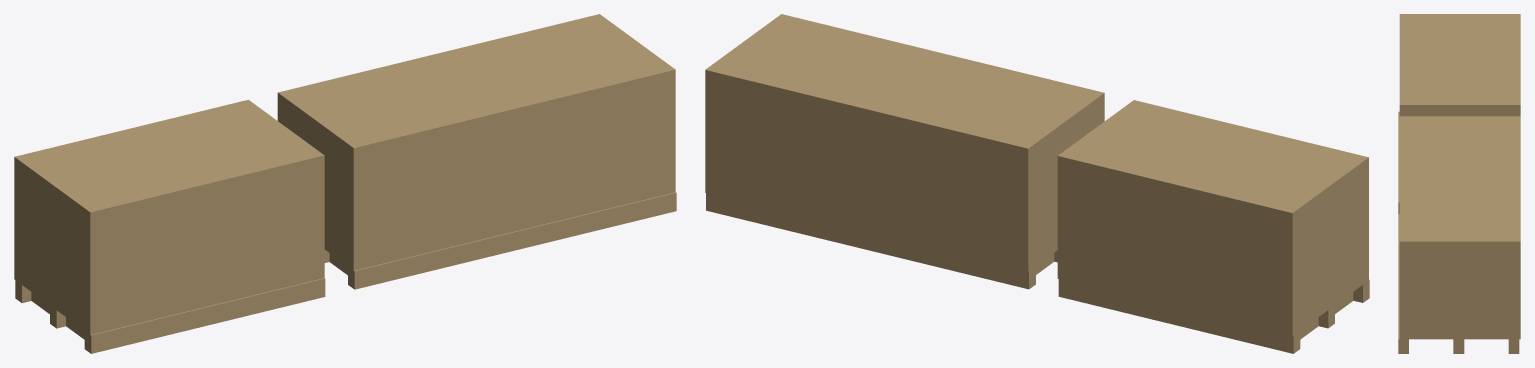
File: stone.obj
The picture shows the model from 3 angles, left to right: view 1: azimuth 30°, elevation 25°; view 2: azimuth 150°, elevation 25°; view 3: azimuth 270°, elevation 25°; orthographic projection. The views are drawn at different scales.
Parts seen in each view (by area): view 1: geometry; view 2: geometry; view 3: geometry.
Part boxes in pixels (box(x1,y1,x2,y2)): geometry: box(14, 14, 676, 353); geometry: box(705, 14, 1369, 353); geometry: box(1398, 14, 1520, 353).
Bounding box in the file's own units: 40 × 9.2 × 9.1.
